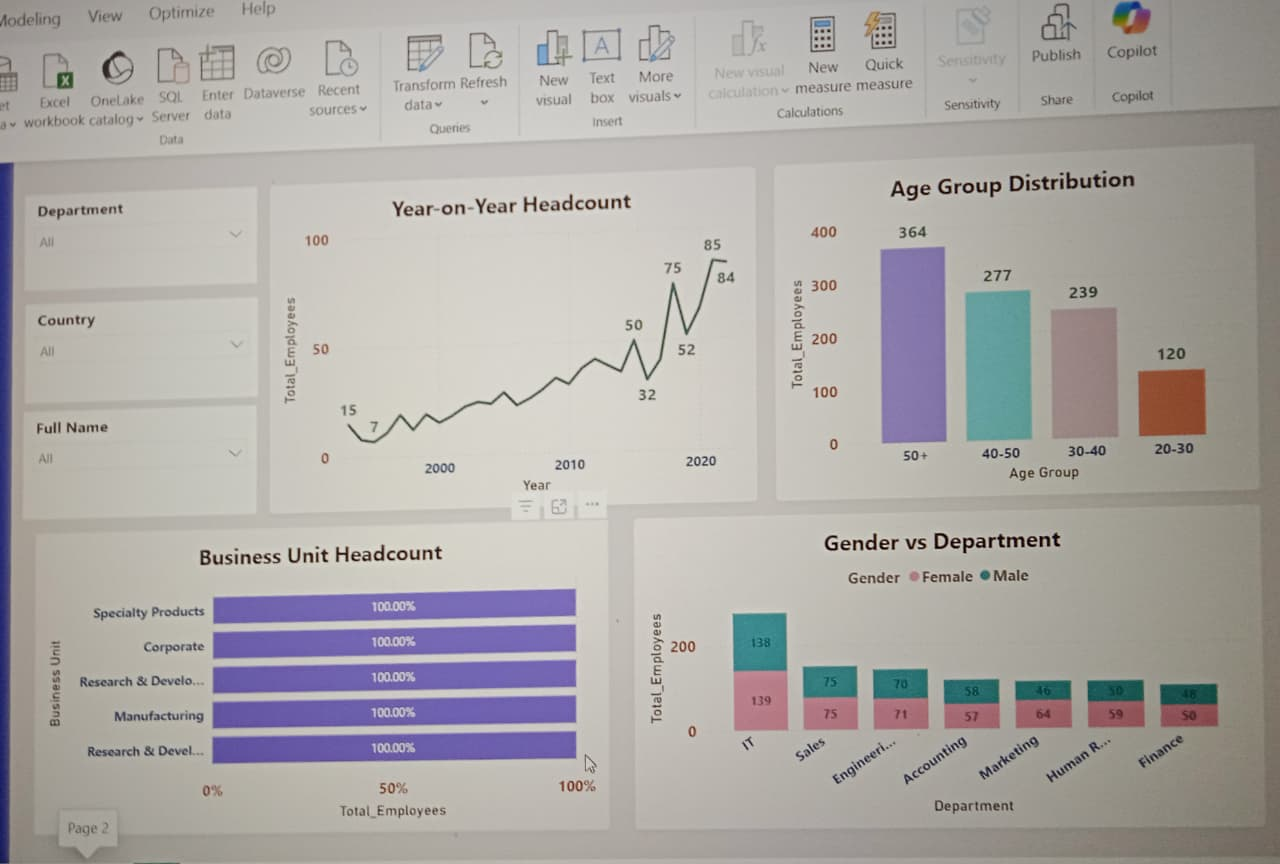

The page's visual inventory and layout, read from the dashboard file:
{"tool":"powerbi","page":{"name":"Page 2","canvas":[1280,720],"ordinal":1},"visuals":[{"type":"lineChart","title":"Year-on-Year Headcount","fields":{"Category":["Employee Data.Hire Date.Variation.Date Hierarchy.Year"],"Y":["Employee Data.Total_Employees"]},"box":[269.9,35.6,493.3,333.7],"z":0},{"type":"clusteredColumnChart","title":"Age Group Distribution","fields":{"Category":["Employee Data.Age Group"],"Y":["Employee Data.Total_Employees"]},"box":[782.8,35.6,458.9,333.7],"z":1000},{"type":"hundredPercentStackedBarChart","title":"Business Unit Headcount","fields":{"Y":["Employee Data.Total_Employees"],"Category":["Employee Data.Business Unit"]},"box":[25.8,384.1,589,306.8],"z":2000},{"type":"columnChart","title":"Gender vs Department","fields":{"Series":["Employee Data.Gender"],"Category":["Employee Data.Department"],"Y":["Employee Data.Total_Employees"]},"box":[640.5,384.1,601.2,306.8],"z":3000},{"type":"slicer","fields":{"Values":["Employee Data.Department"]},"box":[12.3,35.6,244.2,98.2],"z":4000},{"type":"slicer","fields":{"Values":["Employee Data.Country"]},"box":[13.5,148.5,244.2,101.8],"z":5000},{"type":"slicer","fields":{"Values":["Employee Data.Full Name"]},"box":[12.3,258.9,244.2,110.4],"z":6000}]}

Visuals, with their boxes on the page's 1280x720 design canvas (x1, y1, x2, y2). These are canvas units, not pixel positions in the 1280x864 screenshot, which may show the page scaled, cropped or inside an application window:
"Year-on-Year Headcount" lineChart: (left=270, top=36, right=763, bottom=369)
"Age Group Distribution" clusteredColumnChart: (left=783, top=36, right=1242, bottom=369)
"Business Unit Headcount" hundredPercentStackedBarChart: (left=26, top=384, right=615, bottom=691)
"Gender vs Department" columnChart: (left=640, top=384, right=1242, bottom=691)
slicer - Employee Data.Department: (left=12, top=36, right=256, bottom=134)
slicer - Employee Data.Country: (left=14, top=148, right=258, bottom=250)
slicer - Employee Data.Full Name: (left=12, top=259, right=256, bottom=369)
